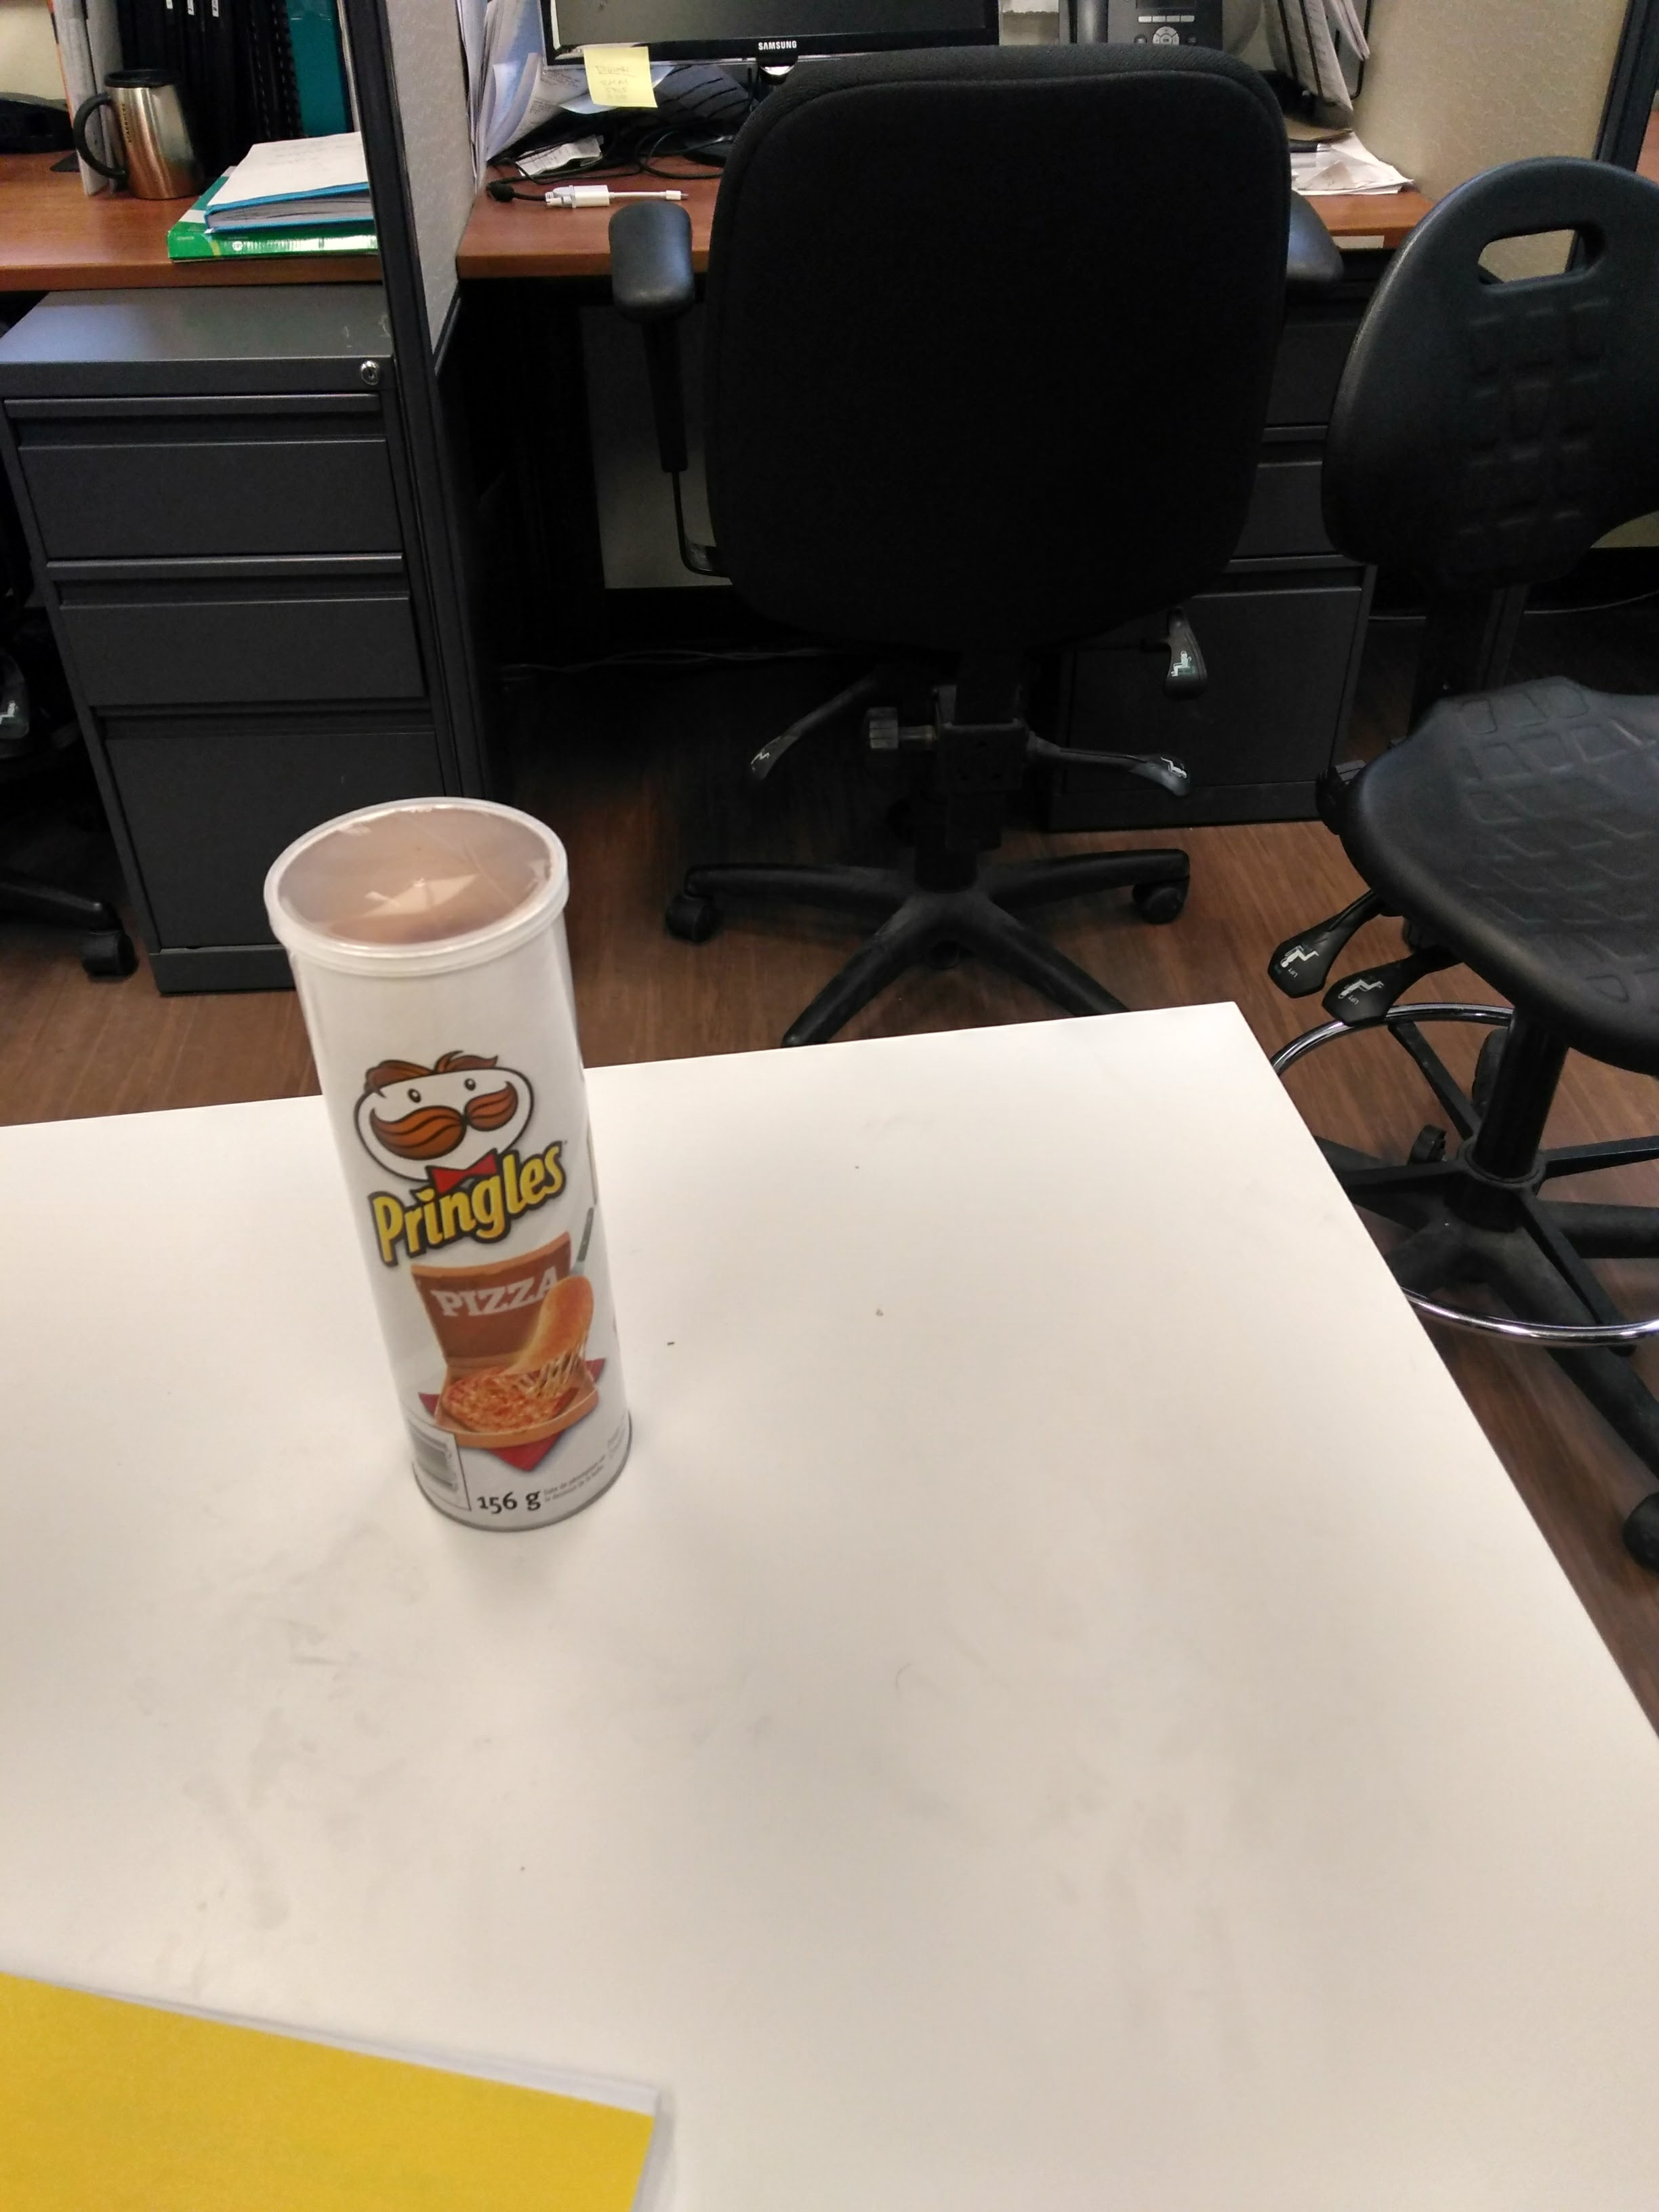pringles: (211, 780, 671, 1554)
